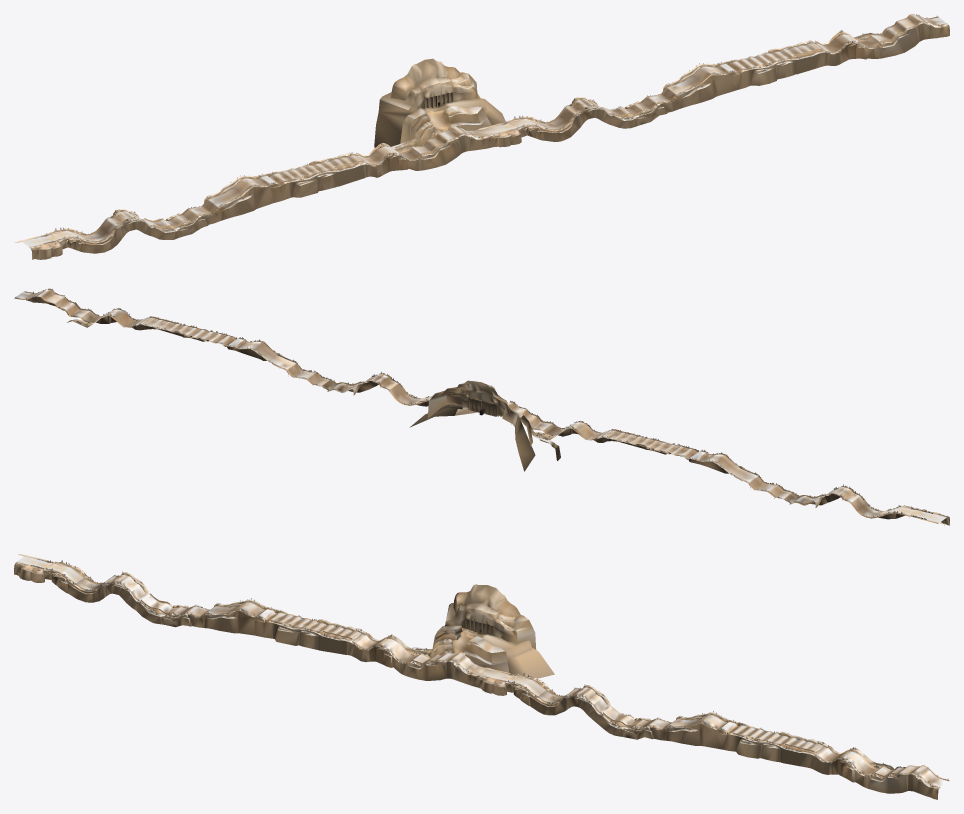
File: Desert_04.fbx
The picture shows the model from 3 angles, top to bottom: view 1: azimuth 30°, elevation 25°; view 2: azimuth 150°, elevation 25°; view 3: azimuth 330°, elevation 25°; orthographic projection.
Parts seen in each view (by area): view 1: Mountain_01, Road_01, Ground_01, Tree_01, Ground_02; view 2: Road_01, Mountain_01, Ground_01, Tree_01; view 3: Mountain_01, Road_01, Ground_01, Tree_01, Ground_02.
Boxes of the visible parts, x1=… form: Mountain_01: x1=30, y1=14, x2=949, y2=259; Road_01: x1=22, y1=15, x2=946, y2=246; Ground_01: x1=29, y1=14, x2=947, y2=247; Tree_01: x1=44, y1=14, x2=941, y2=244; Ground_02: x1=14, y1=65, x2=764, y2=249; Road_01: x1=16, y1=290, x2=946, y2=522; Mountain_01: x1=24, y1=289, x2=949, y2=525; Ground_01: x1=14, y1=289, x2=947, y2=523; Tree_01: x1=15, y1=288, x2=926, y2=517; Mountain_01: x1=14, y1=561, x2=944, y2=799; Road_01: x1=17, y1=556, x2=948, y2=786; Ground_01: x1=17, y1=559, x2=949, y2=787; Tree_01: x1=37, y1=560, x2=948, y2=786; Ground_02: x1=18, y1=554, x2=753, y2=739.
Bounding box in the file's own units: 90030 × 7422 × 7880.
